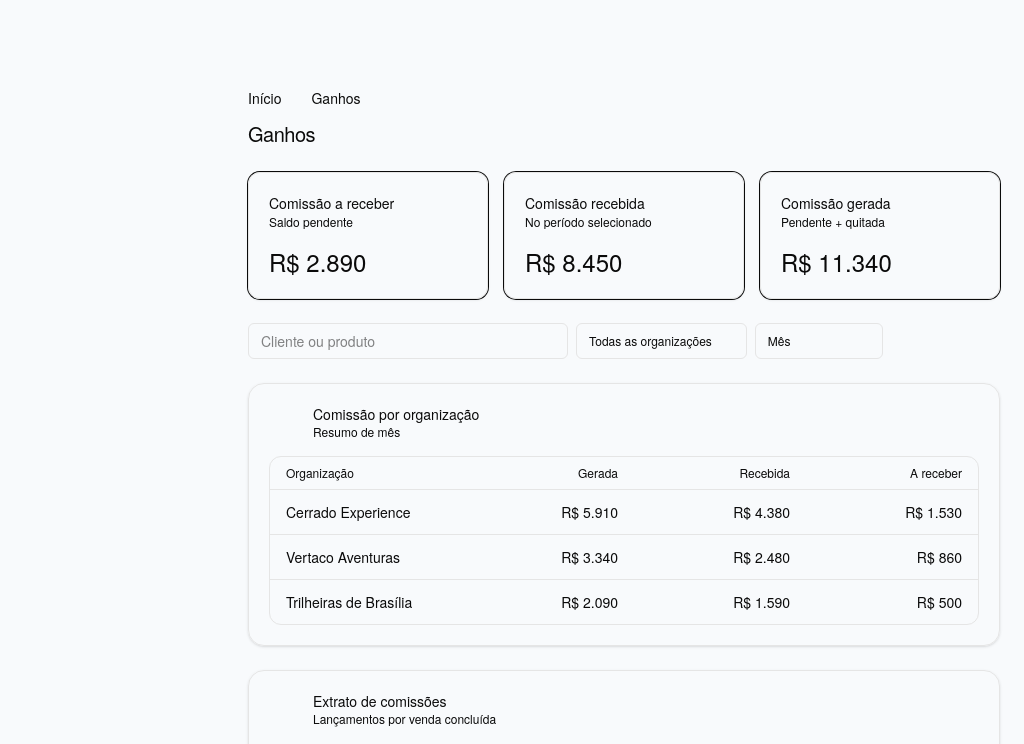
Test: GanhosPage › shows an empty state when the ledger search has no matches
The image size is (1024, 744).
Type "produto-inexistente" into the search field named "Buscar no extrato" at (408,341), box [248,323,568,359]
(page scrolled)
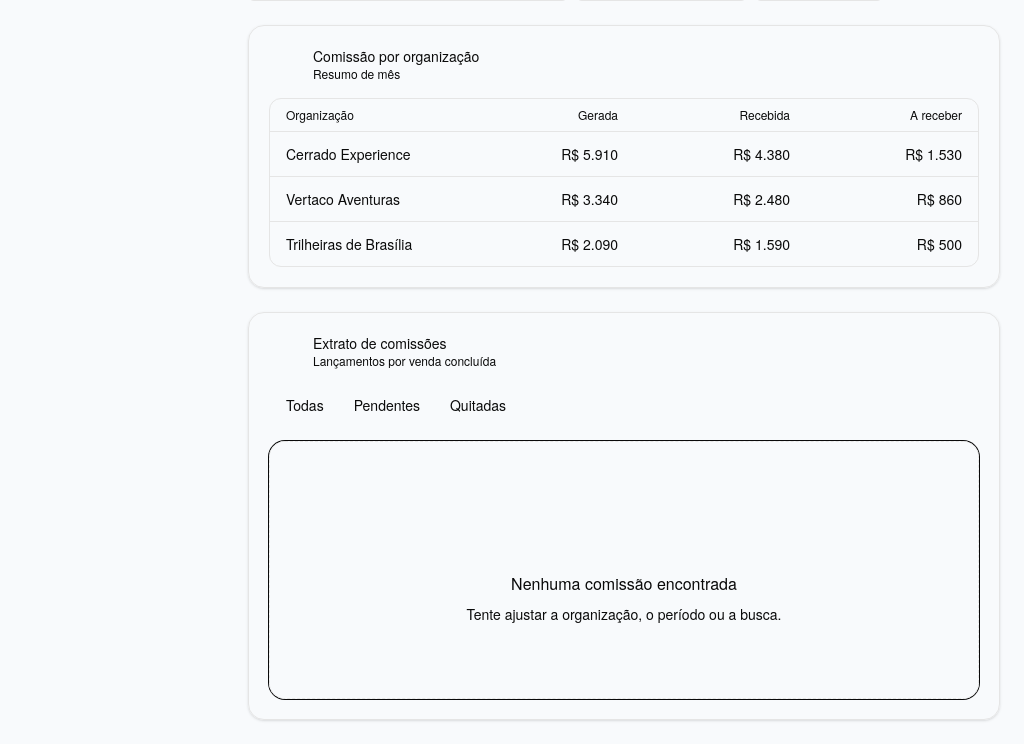
Now the heading "Nenhuma comissão encontrada" is shown, box [511,572,737,596]
